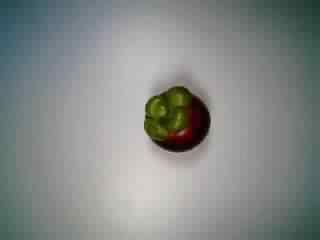mangosteen: (139, 79, 212, 159)
